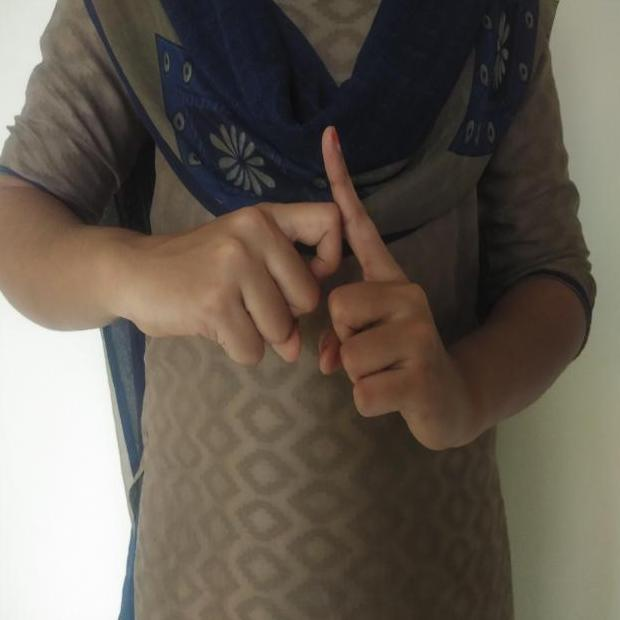J: (177, 116, 491, 466)
